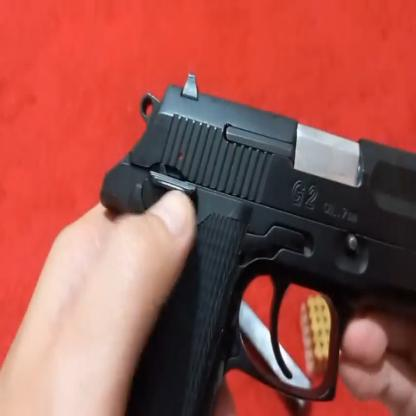handgun: (128, 85, 416, 416)
